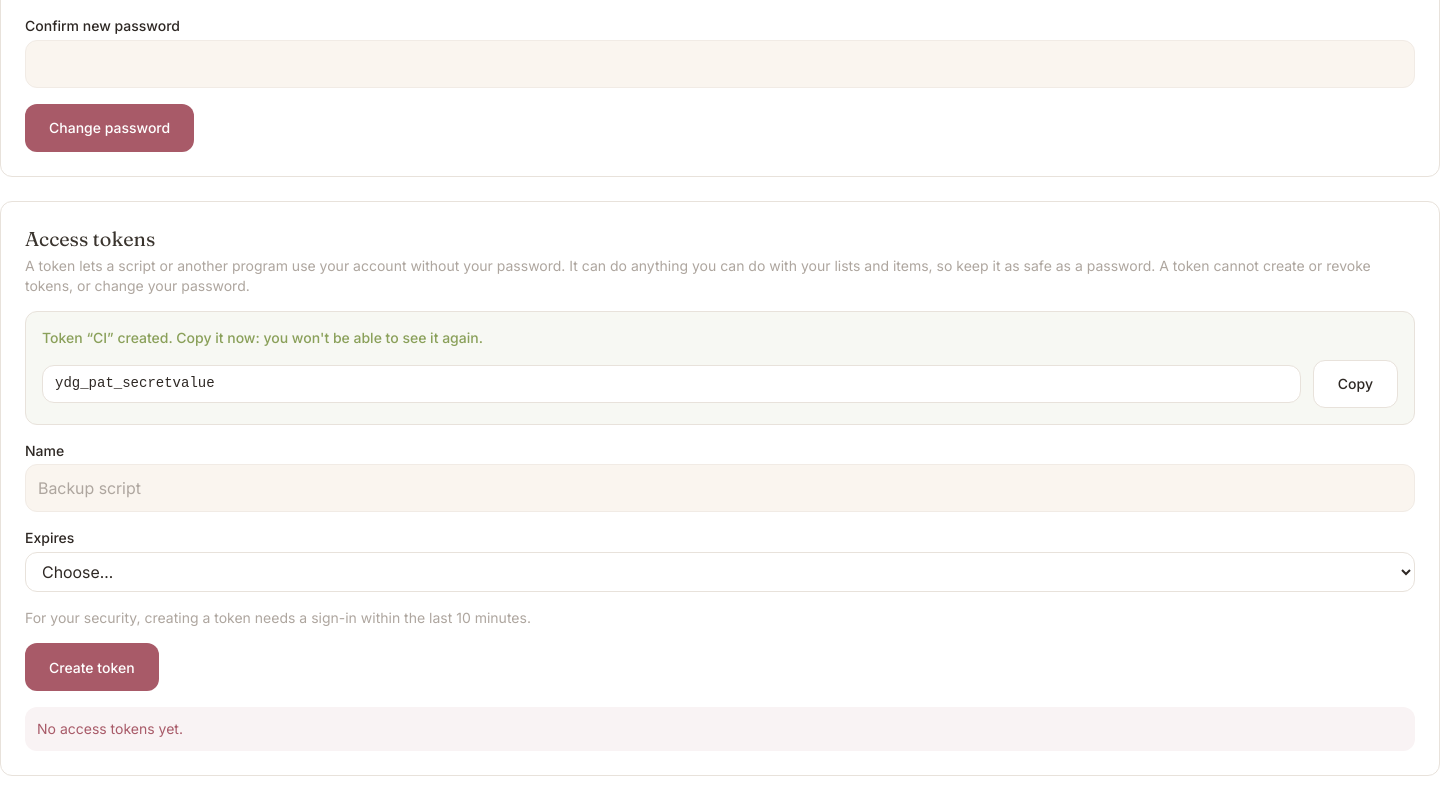
Scenario: copying a new token (ADR-0016 §7) › selects the token and says to copy it by hand when the browser cannot copy
The image size is (1440, 788).
(page scrolled)
Step 1. Click the button "Copy" → x=1355, y=384, box [1313, 360, 1398, 408]
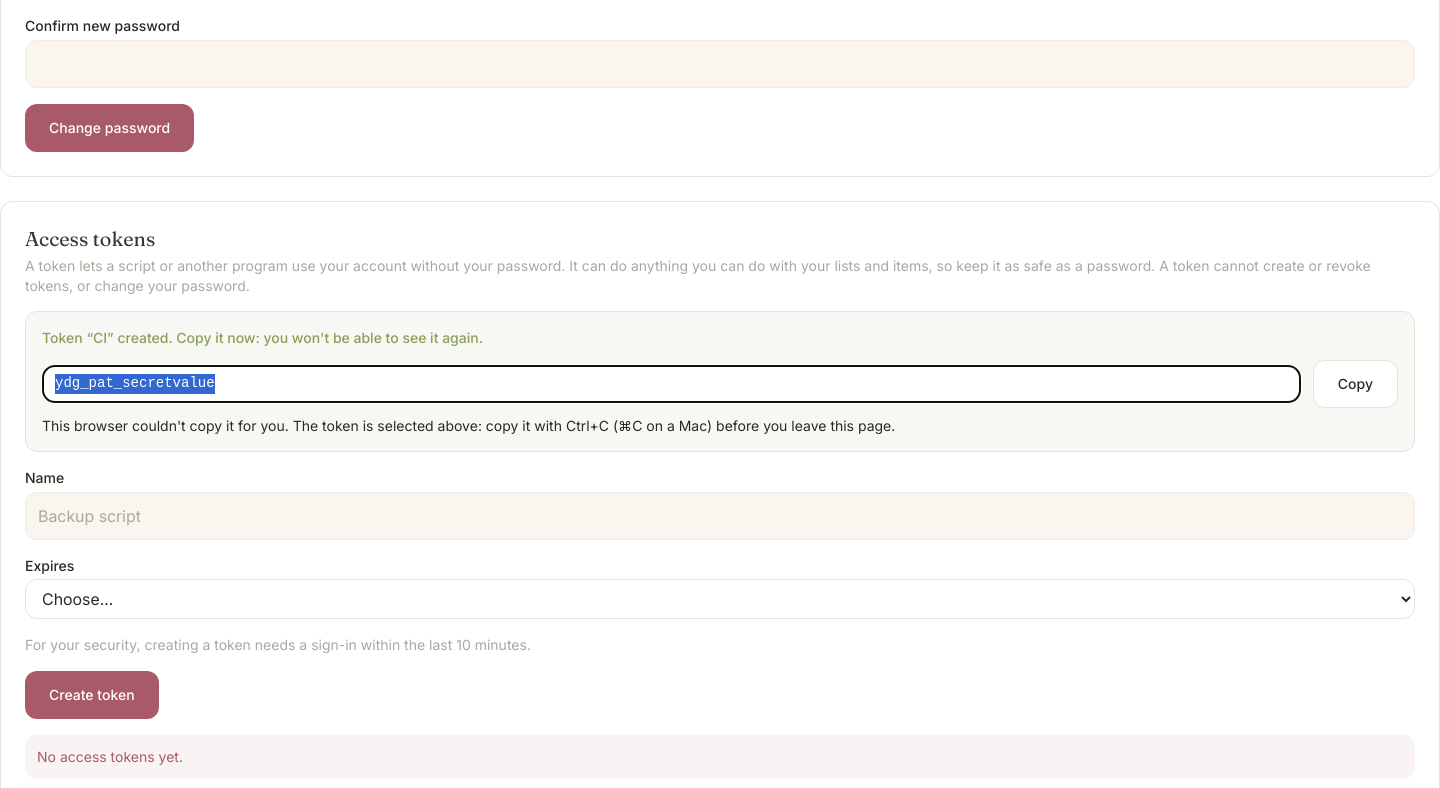
Result: the message shows "copy it with Ctrl+C" at [42, 417, 895, 434]
